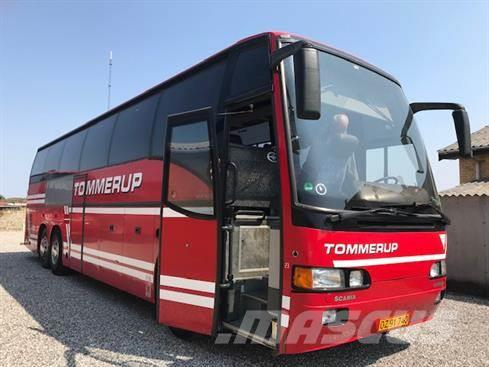bus: (22, 30, 450, 356)
